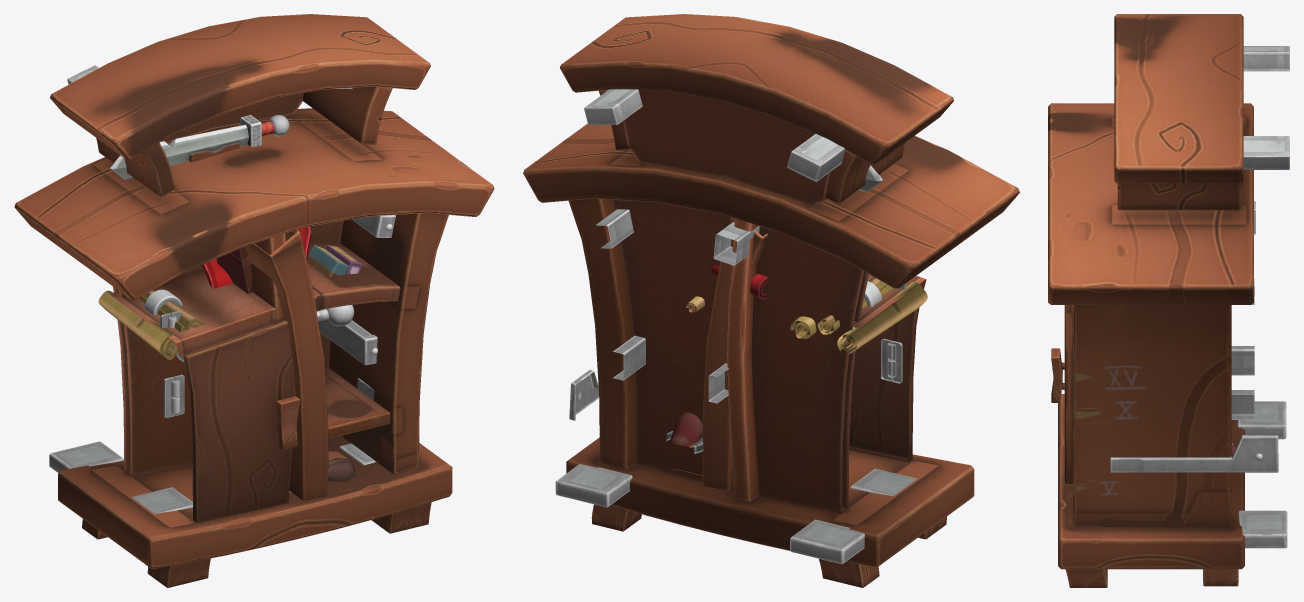
File: wardrobe.glb
3 views of the same model, side by side, from view 1: azimuth 30°, elevation 25°; view 2: azimuth 150°, elevation 25°; view 3: azimuth 270°, elevation 25° (orthographic). The views are drawn at different scales.
Visible parts, largest first — view 1: Bookcase_low, Prop1_low, Metal_low, Flag_low, MetalRod_low; view 2: Bookcase_low, Metal_low, Prop1_low; view 3: Bookcase_low, Metal_low.
Boxes of the visible parts, x1,y1,x2,y2 form: Bookcase_low: (14, 14, 494, 587); Prop1_low: (98, 115, 362, 492); Metal_low: (49, 65, 395, 513); Flag_low: (202, 226, 311, 288); MetalRod_low: (176, 305, 354, 361); Bookcase_low: (523, 14, 1019, 587); Metal_low: (555, 89, 917, 564); Prop1_low: (666, 165, 927, 495); Bookcase_low: (1048, 14, 1253, 587); Metal_low: (1110, 46, 1289, 548).
Size of the model in its own units: 17.34 by 20.42 by 9.68.
3 materials, 3 textured.
